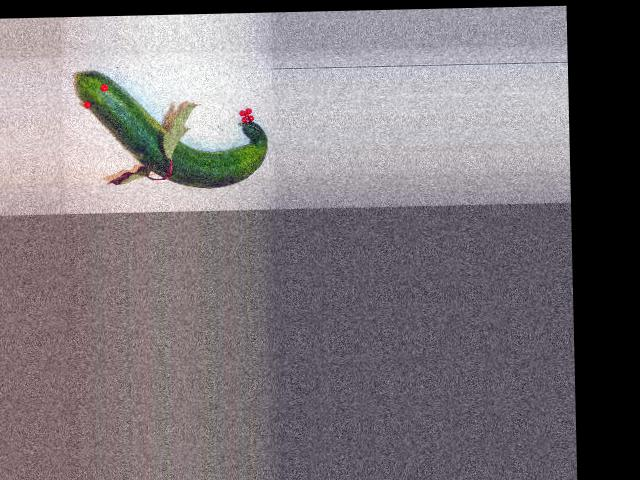cucumber: (75, 66, 269, 191)
